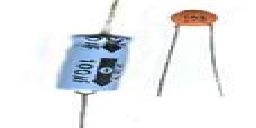Electrolytic Capacitor: (56, 1, 135, 128), (152, 6, 227, 100)
